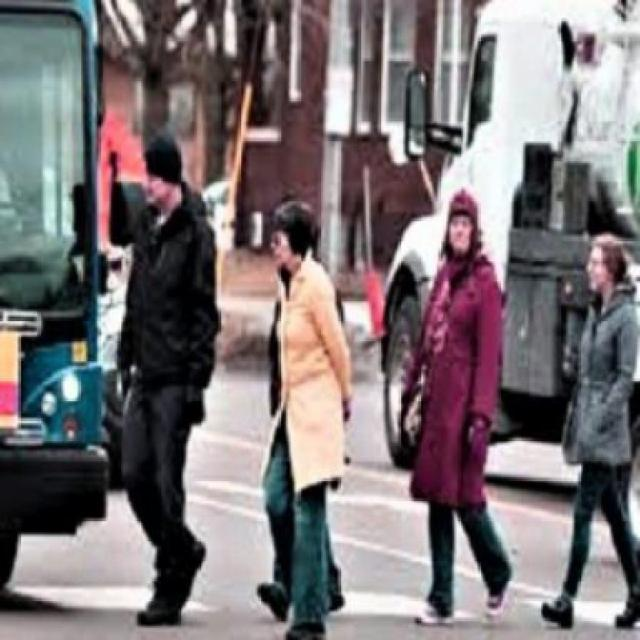obstacle: (110, 123, 222, 629), (396, 185, 516, 626), (248, 194, 358, 638), (538, 230, 639, 638)
